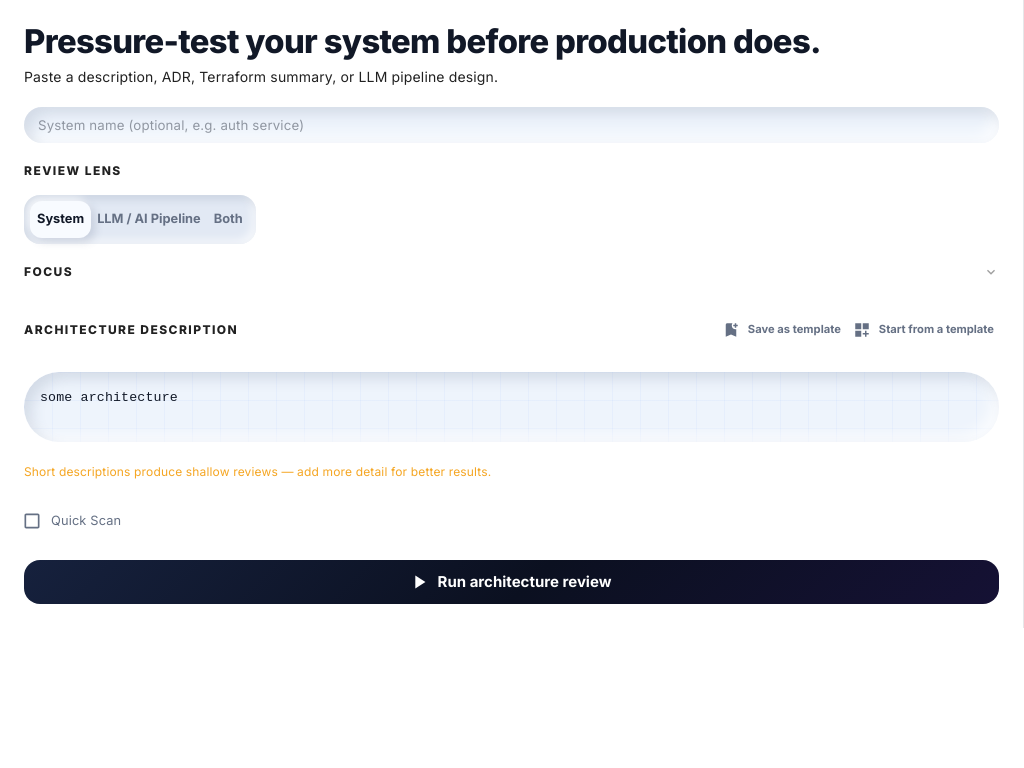
Scenario: ArchitectureInputPanel — save as template › shows name prompt when Save as template is clicked
Click the button "Save as template" at (782, 330), box [719,308,846,352]
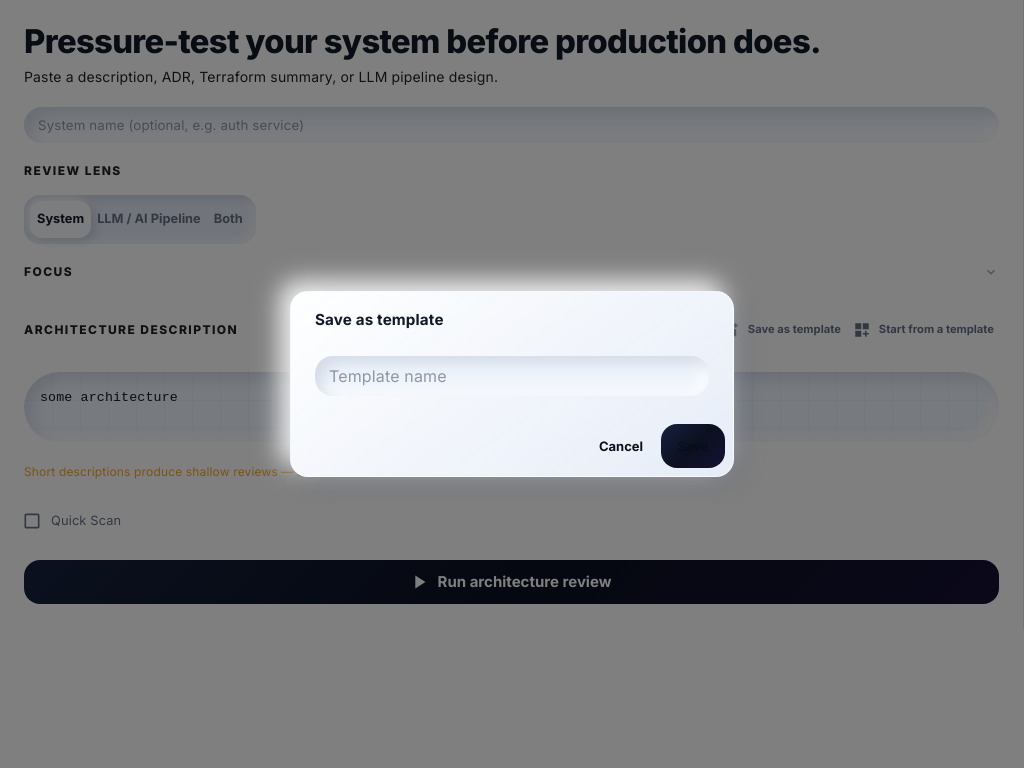
Expected: the field with placeholder "Template name" is shown, [315,356,709,396]
